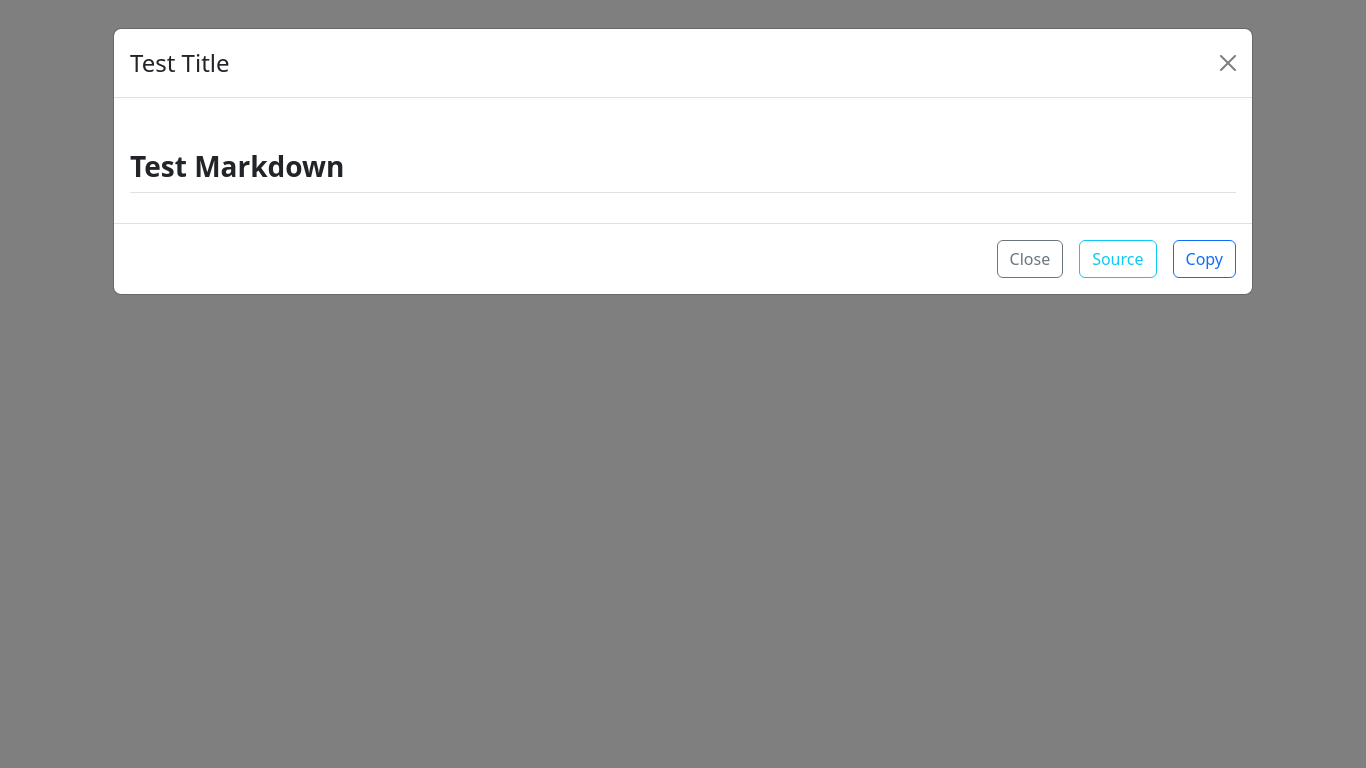
Test: ModalMarkdown Component › should toggle to source view when Source button is clicked
Click the button with test id "modal-source-button" at (1118, 259), box [1079, 240, 1157, 278]
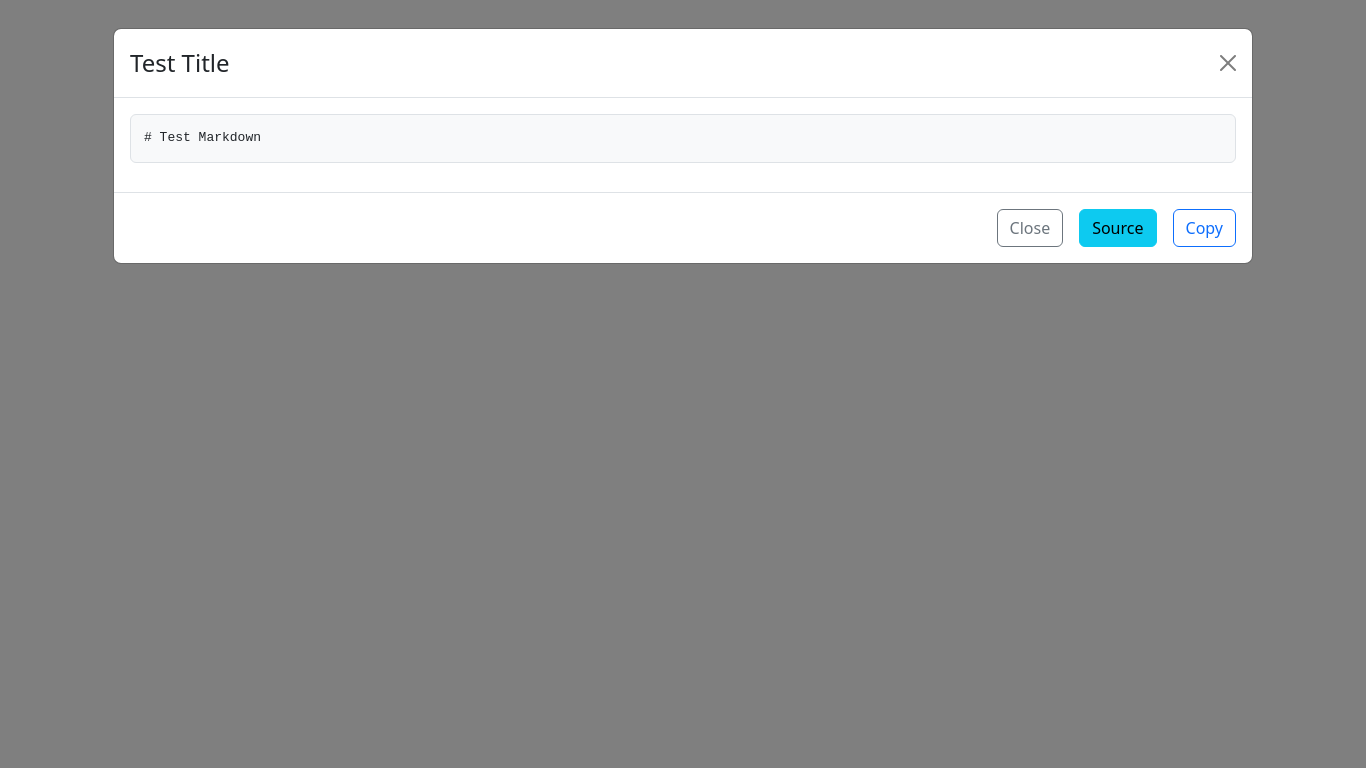
Expected: the text "# Test Markdown" is shown, [130, 114, 1236, 163]
Expected: the text with test id "markdown-source-view" reads "# Test Markdown", [144, 130, 261, 145]
